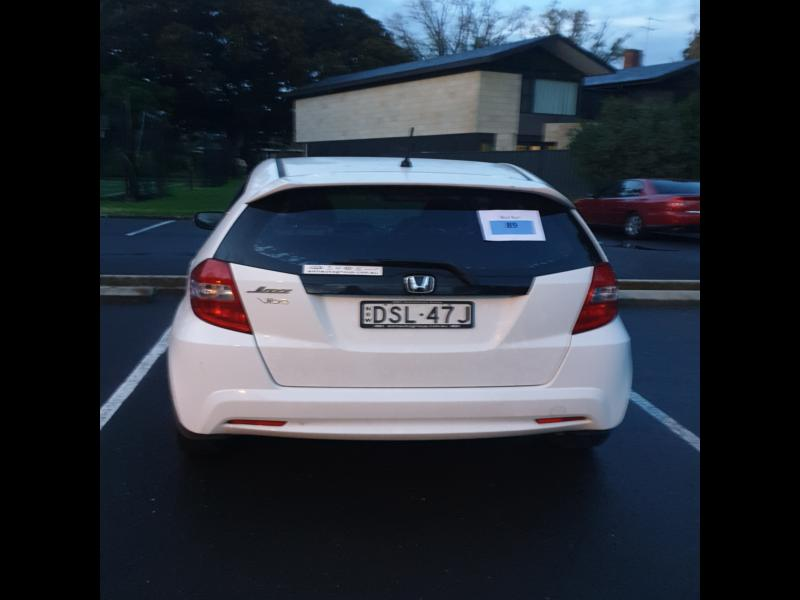BusRun: (491, 219, 535, 234)
PlateNo: (361, 299, 474, 327)
